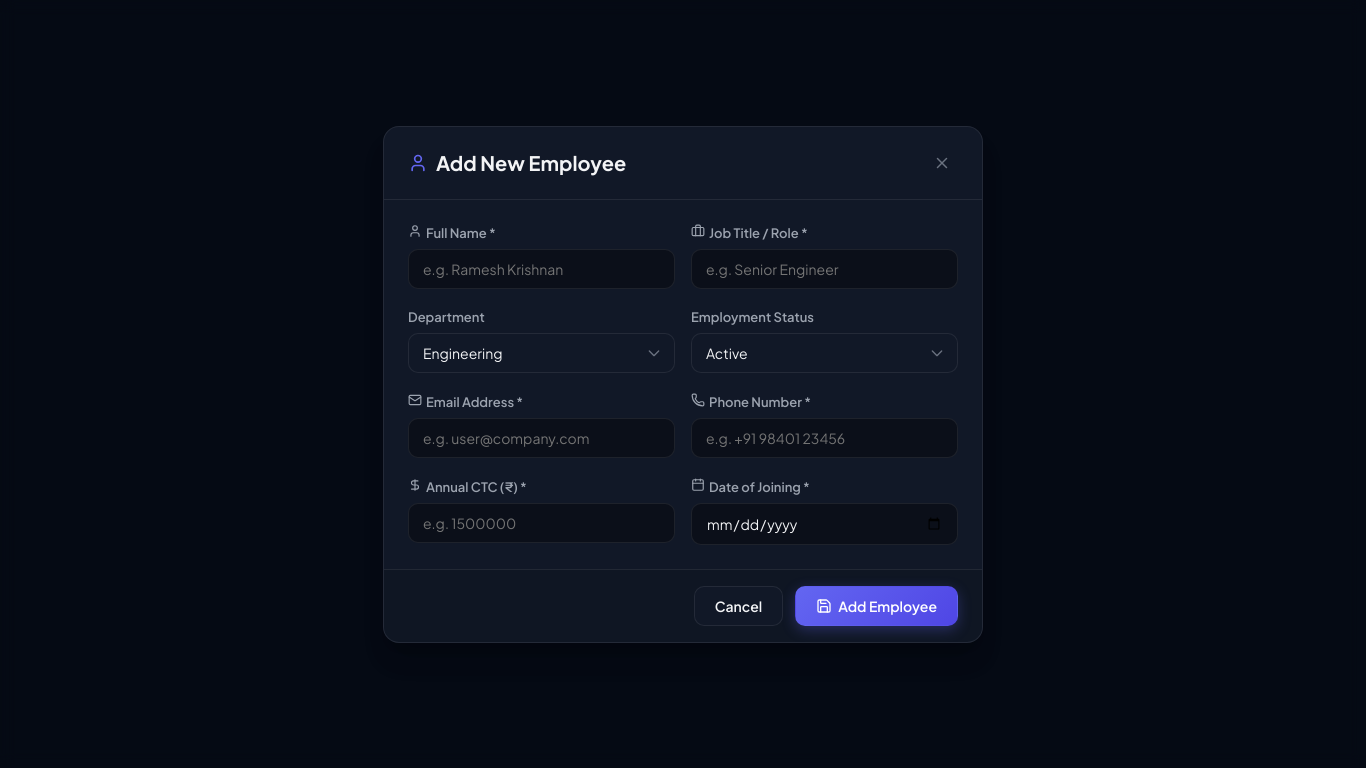
EmployeeFormModal › shows validation error when name is empty on submit
Click the button with test id "btn-save".
click(877, 606)  # box [795, 586, 958, 626]
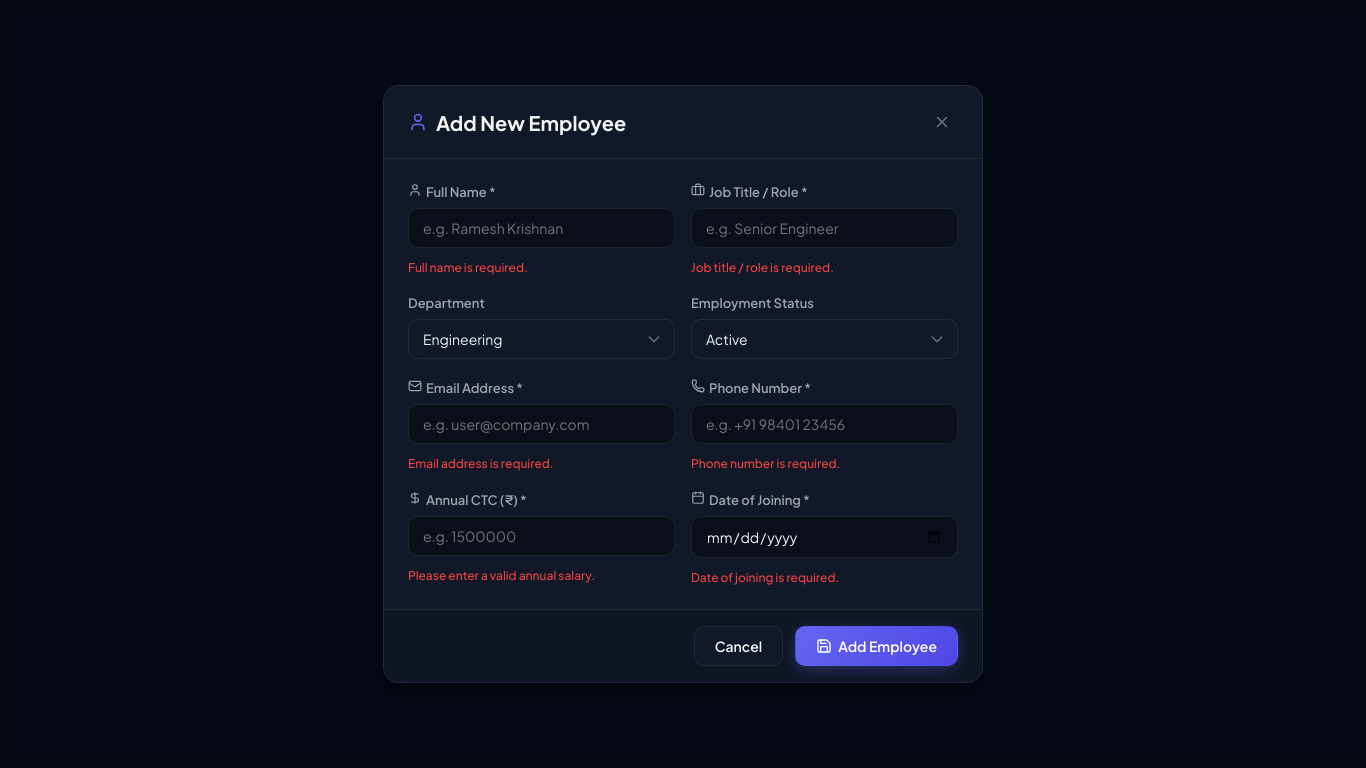
Now the text "Full name is required." is shown, box [408, 260, 528, 275]
